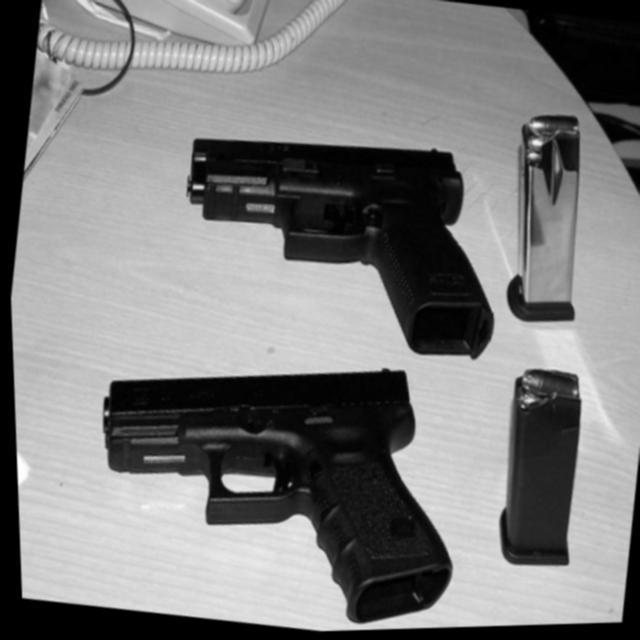weapon: (70, 326, 476, 638), (159, 116, 518, 372)
